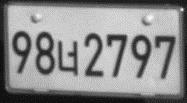2: (83, 32, 105, 77)
7: (105, 33, 128, 79), (154, 34, 177, 79)
8: (35, 31, 55, 76)
9: (130, 34, 153, 78), (11, 30, 32, 74)
너: (56, 37, 79, 77)
